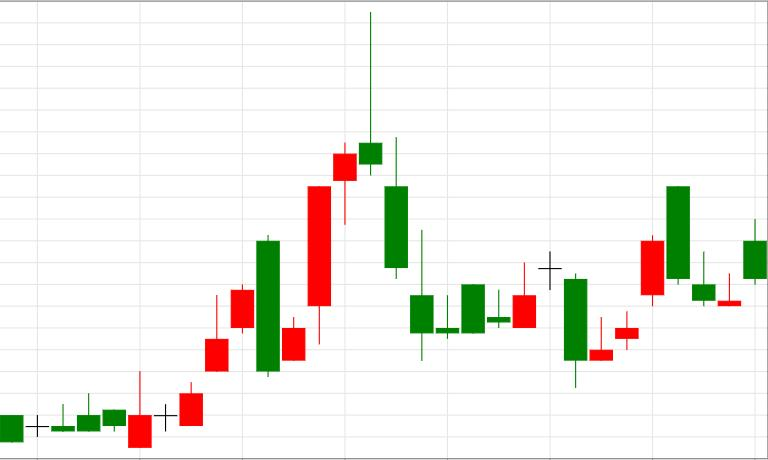bearish_engulfing_fall: (128, 234, 280, 448)
evening_star_fall: (436, 251, 587, 388)
shooting_star_fall: (282, 12, 382, 361)
